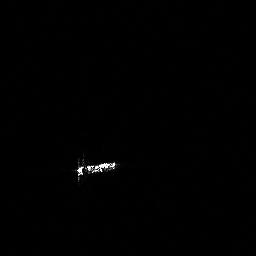ship: (70, 154, 121, 181)
